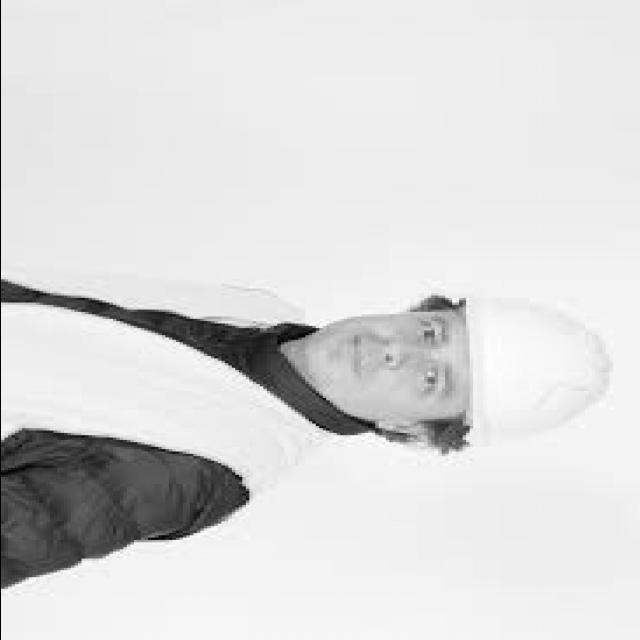safety_helmet: (458, 293, 616, 449)
